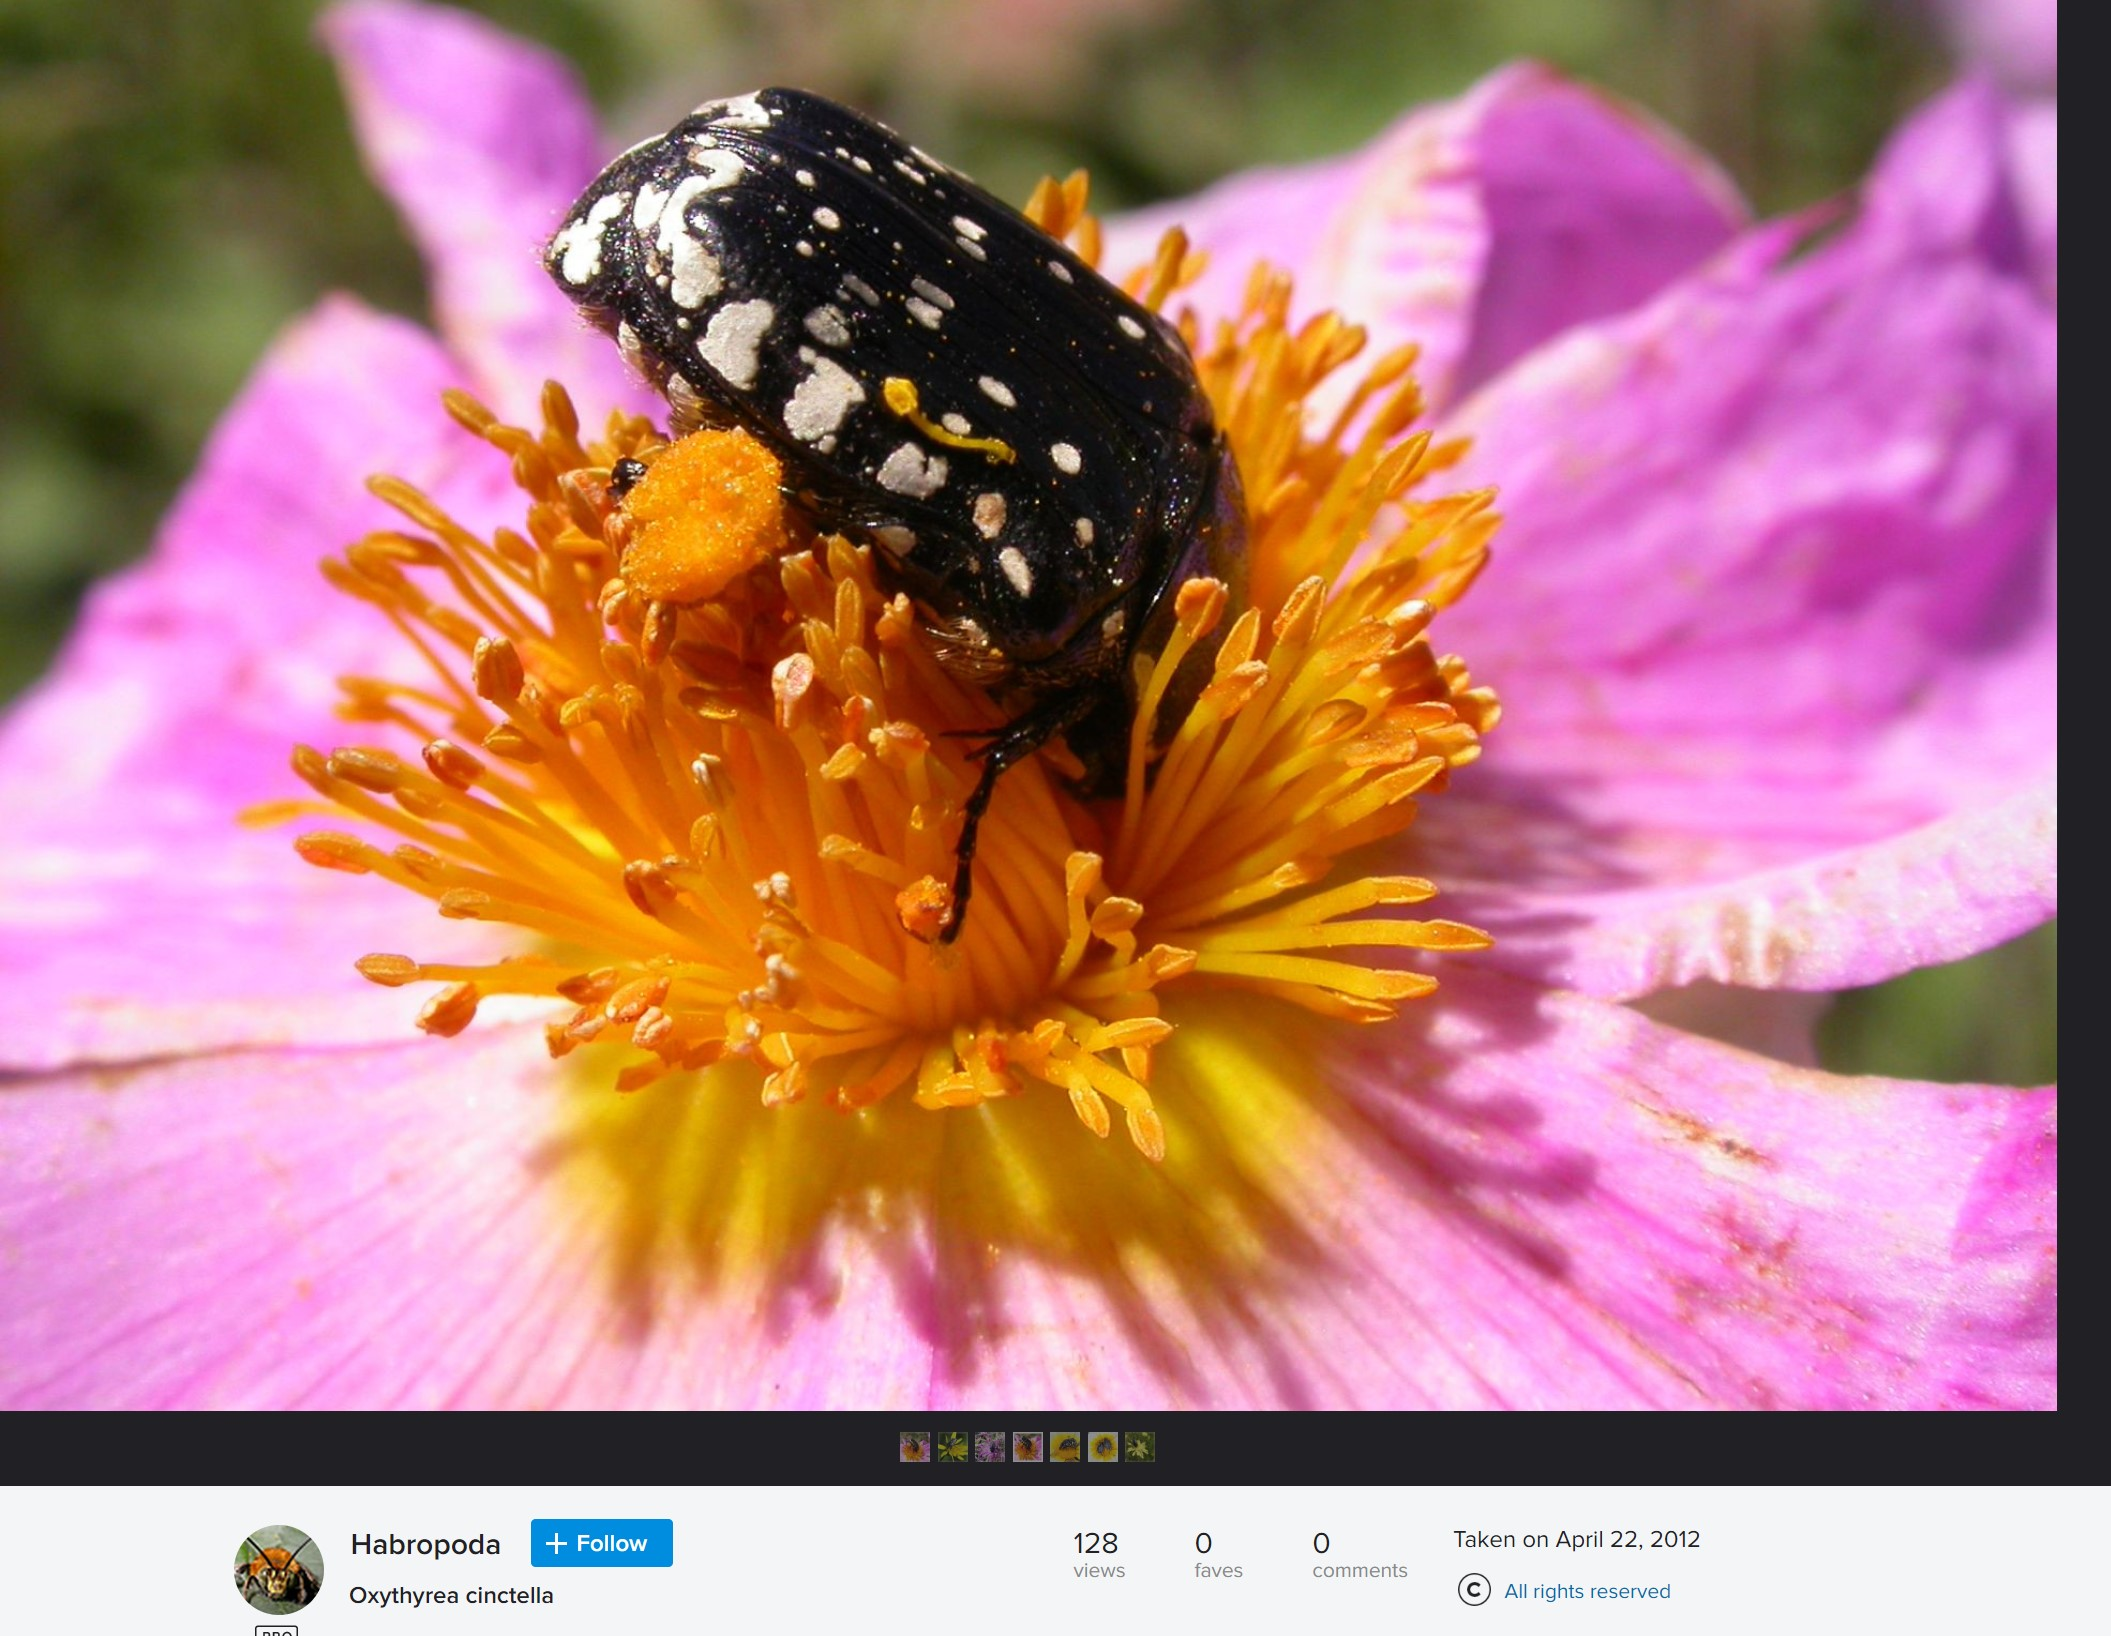Oxythyrea_cinctella: (531, 69, 1287, 935)
